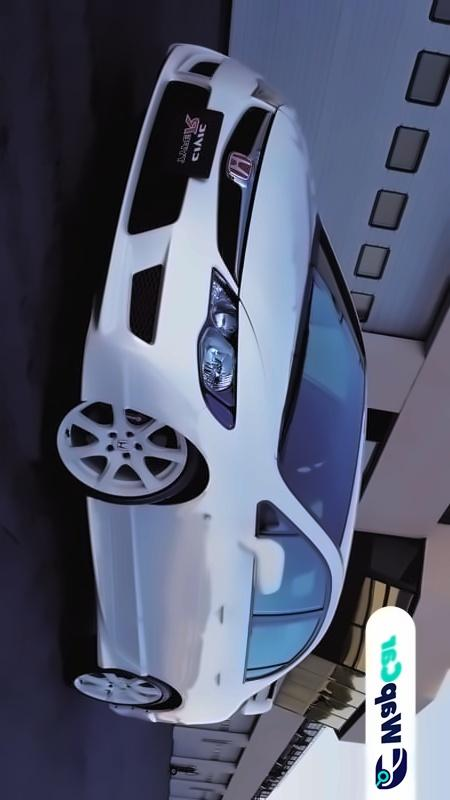Car hood: (225, 93, 328, 474)
Fender - -F-L-: (88, 388, 317, 536)
Fender - -R-L-: (102, 657, 257, 728)
Front bumper: (69, 38, 281, 434)
Headlight - -L-: (198, 269, 246, 432)
Passenger-s door - -F-L-: (74, 484, 365, 629)
Passenger-s door - -R-L-: (81, 601, 373, 704)
Side bumper - -L-: (61, 483, 163, 683)
Side mirror - -L-: (233, 531, 295, 601)
